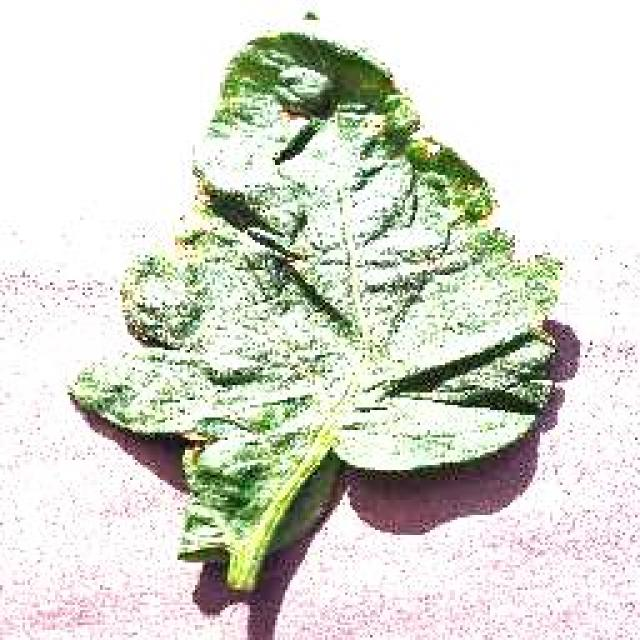Tomato___Target_Spot: (68, 30, 560, 590)
